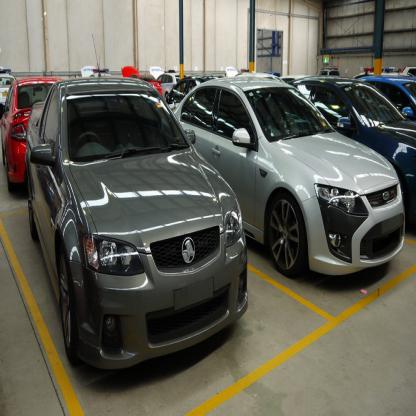Car: (0, 33, 416, 371)
